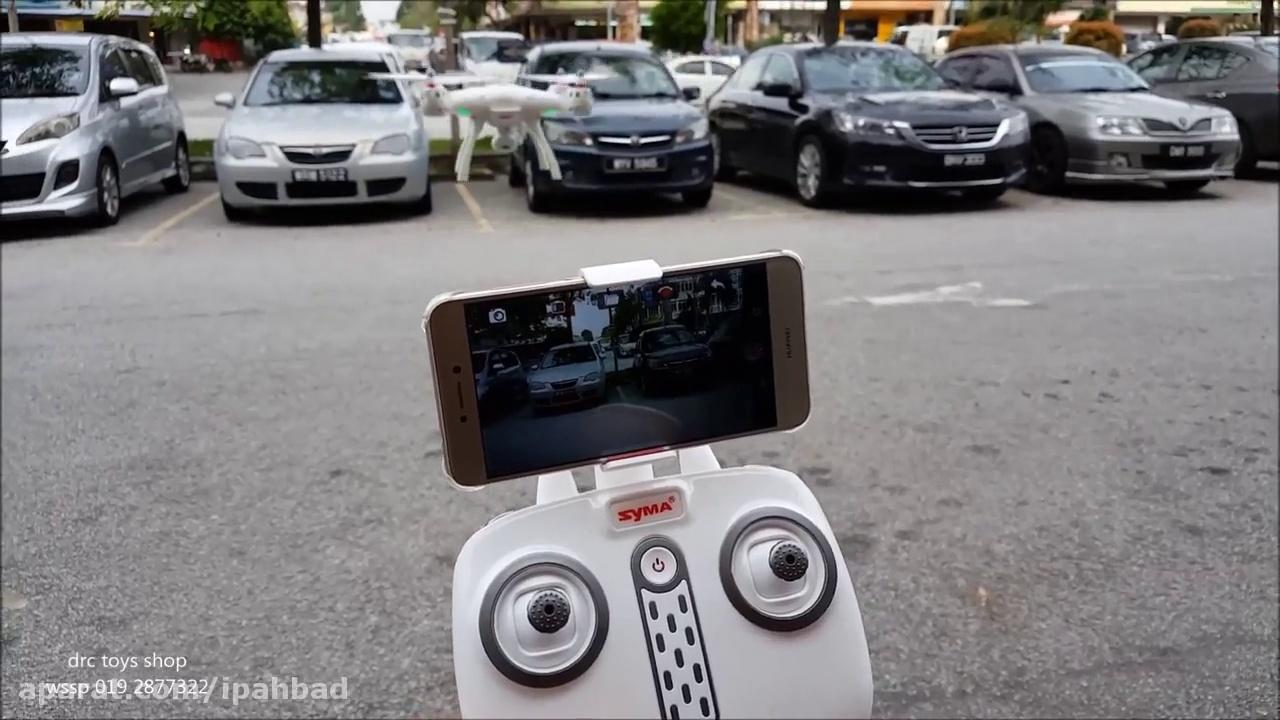drone: (384, 66, 616, 182)
